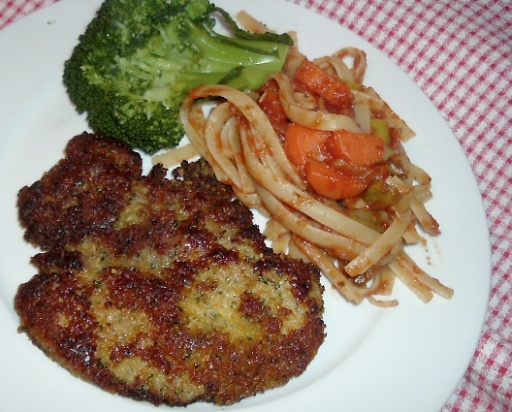background: (11, 0, 364, 264)
